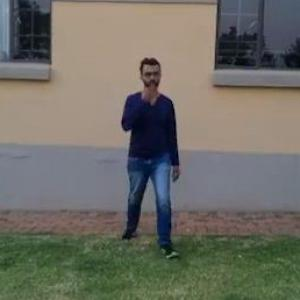follow: (121, 56, 180, 249)
